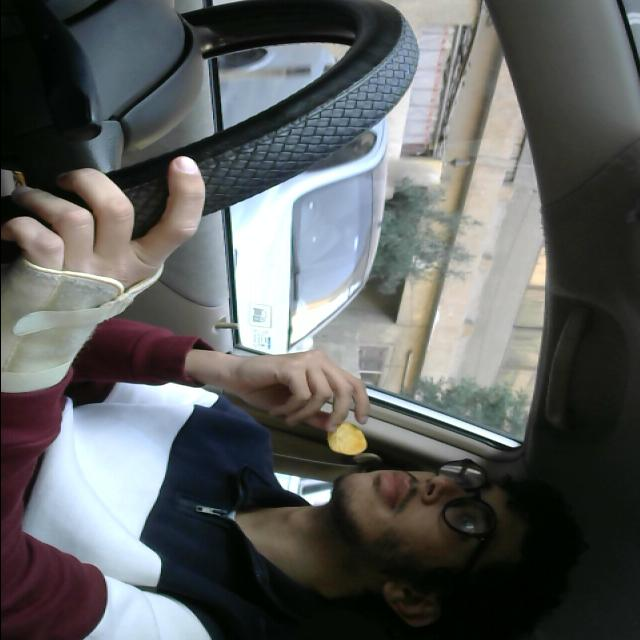eating: (312, 414, 378, 458)
